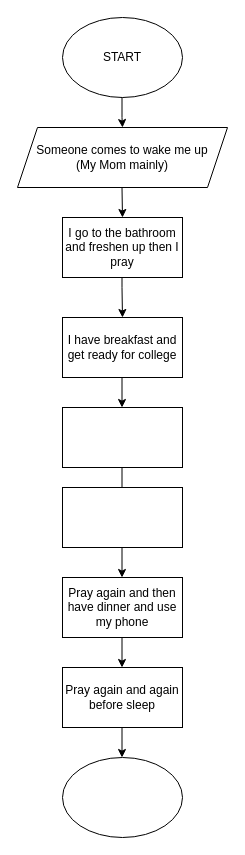
Image size: 245x855. Some labels were removed from this diagram. The shapes that lost their labels are listed below. From the top down, each one's box as (x1, y1, x2, y2) in pixels, then its label:
(62, 406, 182, 468): Then I drive to college, study and drive back home
(62, 486, 182, 548): I have lunch then I pray and then I study
(62, 756, 182, 838): END
